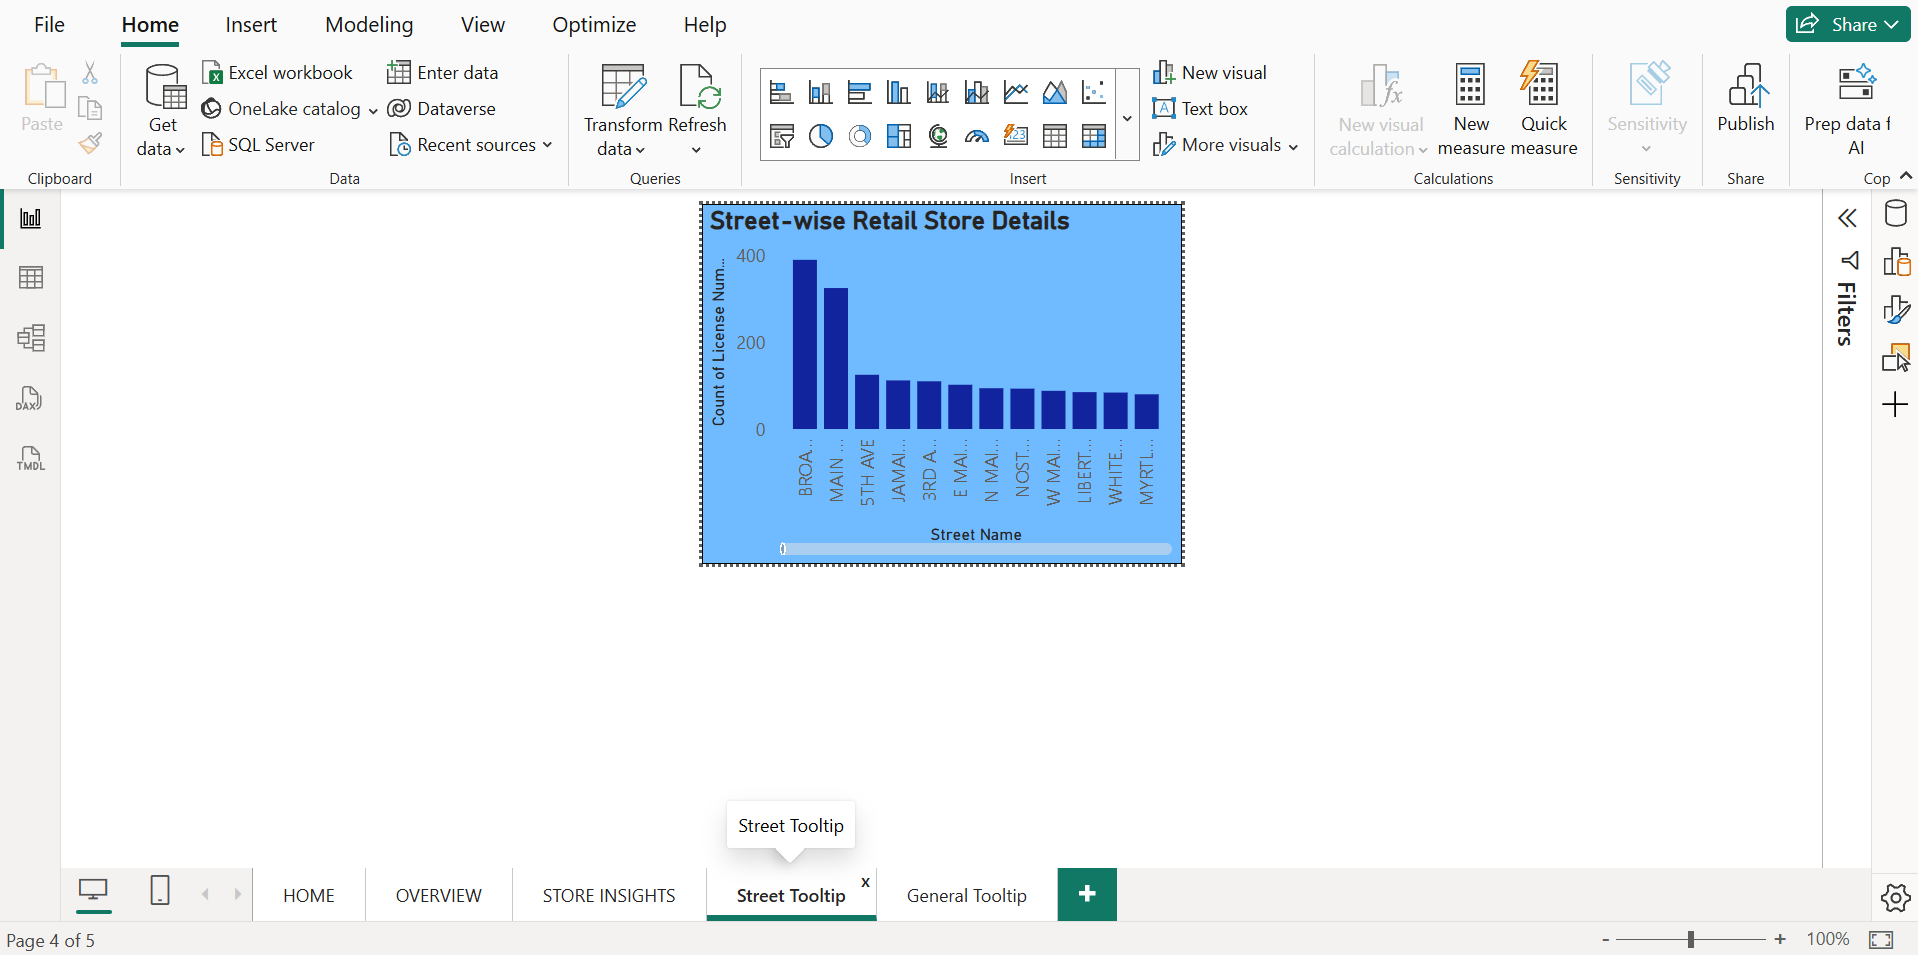

This screenshot's page, from the dashboard's own definition file:
{"tool":"powerbi","page":{"name":"Street Tooltip ","canvas":[320,240],"ordinal":3},"visuals":[{"type":"columnChart","title":"Street-wise Retail Store Details","fields":{"Category":["Retail_Food_Stores.Street Name"],"Y":["Count(Retail_Food_Stores.License Number)"]},"box":[0,0,320,240],"z":0}]}

Visuals, with their boxes on the page's 320x240 design canvas (x1, y1, x2, y2). These are canvas units, not pixel positions in the 1918x955 screenshot, which may show the page scaled, cropped or inside an application window:
"Street-wise Retail Store Details" columnChart: (0,0,320,240)
